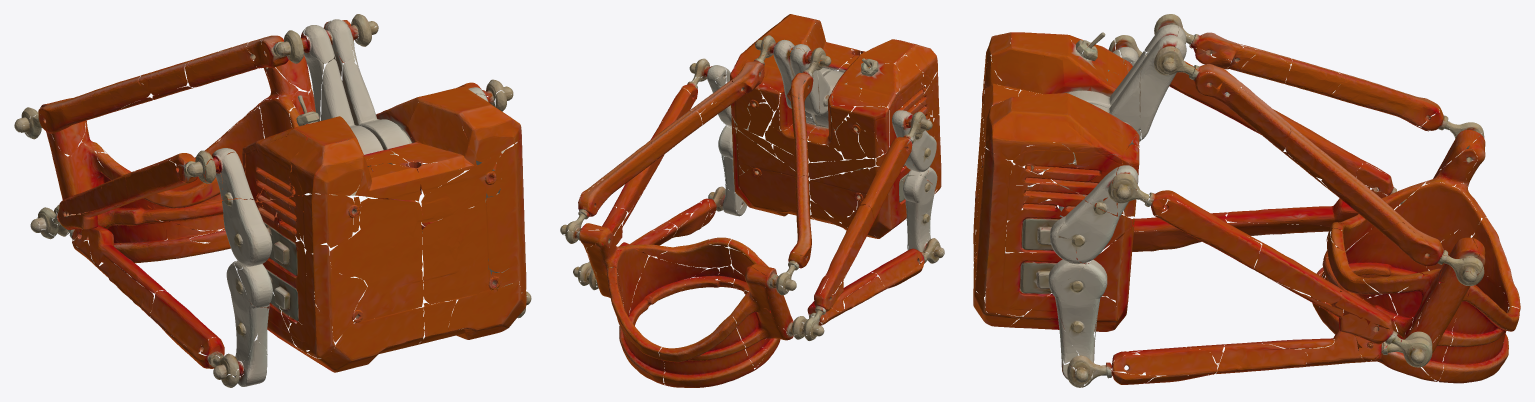
File: ORS6_tripo.glb
3 renders of one model, left to right at view 1: azimuth 30°, elevation 25°; view 2: azimuth 150°, elevation 25°; view 3: azimuth 270°, elevation 25°, orthographic. The views are drawn at different scales.
Visible parts, largest first — view 1: world; view 2: world; view 3: world.
Boxes of the visible parts, bbox=[...] form: world: bbox=[14, 14, 531, 387]; world: bbox=[560, 14, 944, 387]; world: bbox=[973, 14, 1520, 387].
Bounding box in the file's own units: 0.6931 × 0.6649 × 1.
